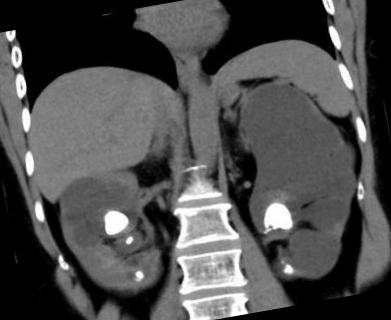Tas_Var: (256, 198, 298, 236), (100, 203, 132, 236), (281, 263, 297, 277), (133, 268, 145, 280), (124, 236, 134, 246), (265, 227, 273, 234), (261, 229, 266, 235)
